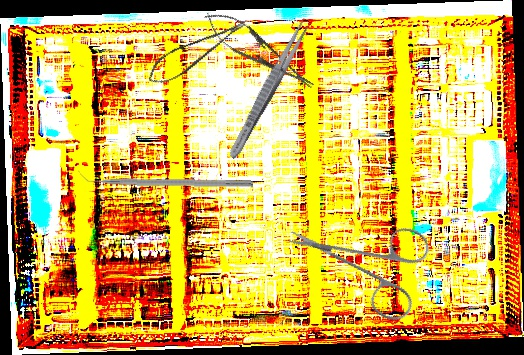Chopper: (77, 167, 254, 188)
Dressing Forceps: (225, 15, 313, 162)
Iris Scissors: (285, 179, 453, 349)
Micro Scissor: (141, 18, 254, 90)
Needle Holder: (197, 2, 321, 100)
